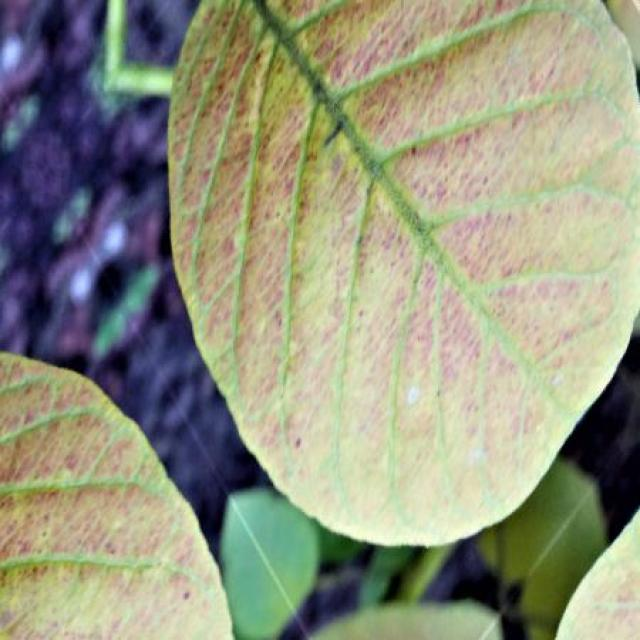Red Rust: (170, 0, 640, 546), (1, 355, 232, 639)
